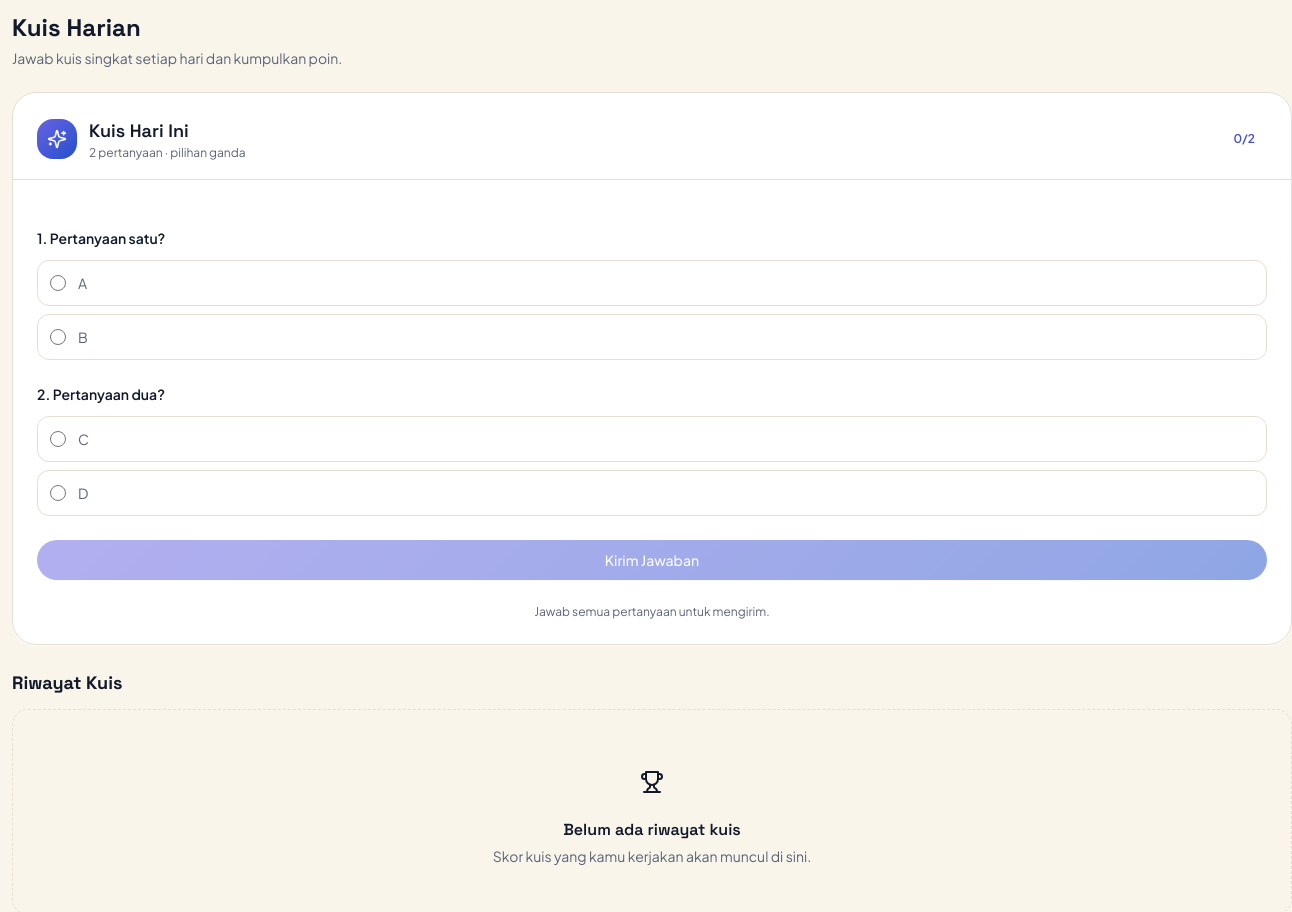
Test: QuizPage › submits answers and shows per-question benar/salah feedback
Expected: the button with test id "kuis.submit_button" is shown, 37,540 -> 1267,580
Click the radio button with test id "kuis.option.1.2": {"x": 58, "y": 337} 50,329 -> 66,345
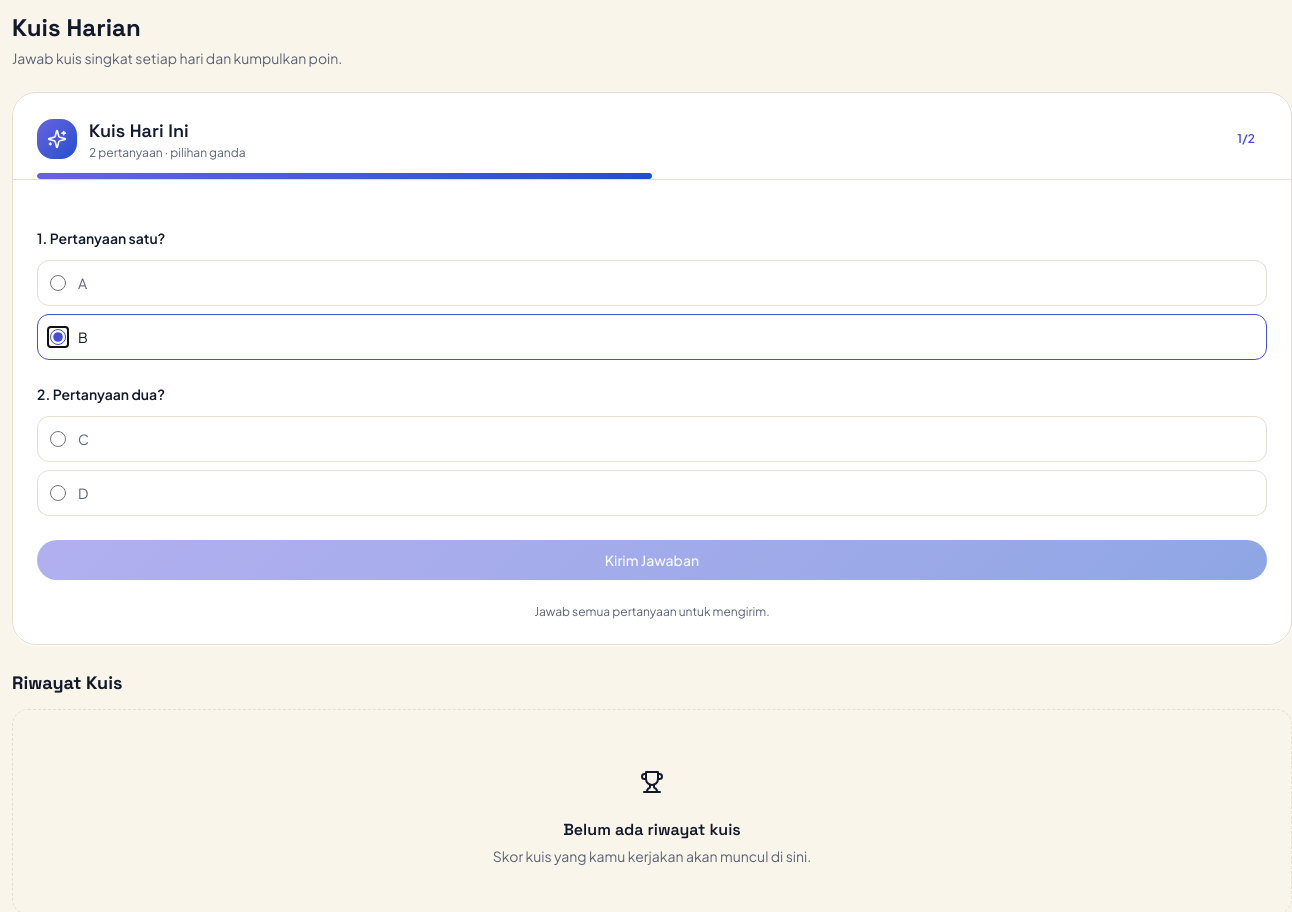
Click the radio button with test id "kuis.option.2.2": {"x": 58, "y": 493} 50,485 -> 66,501
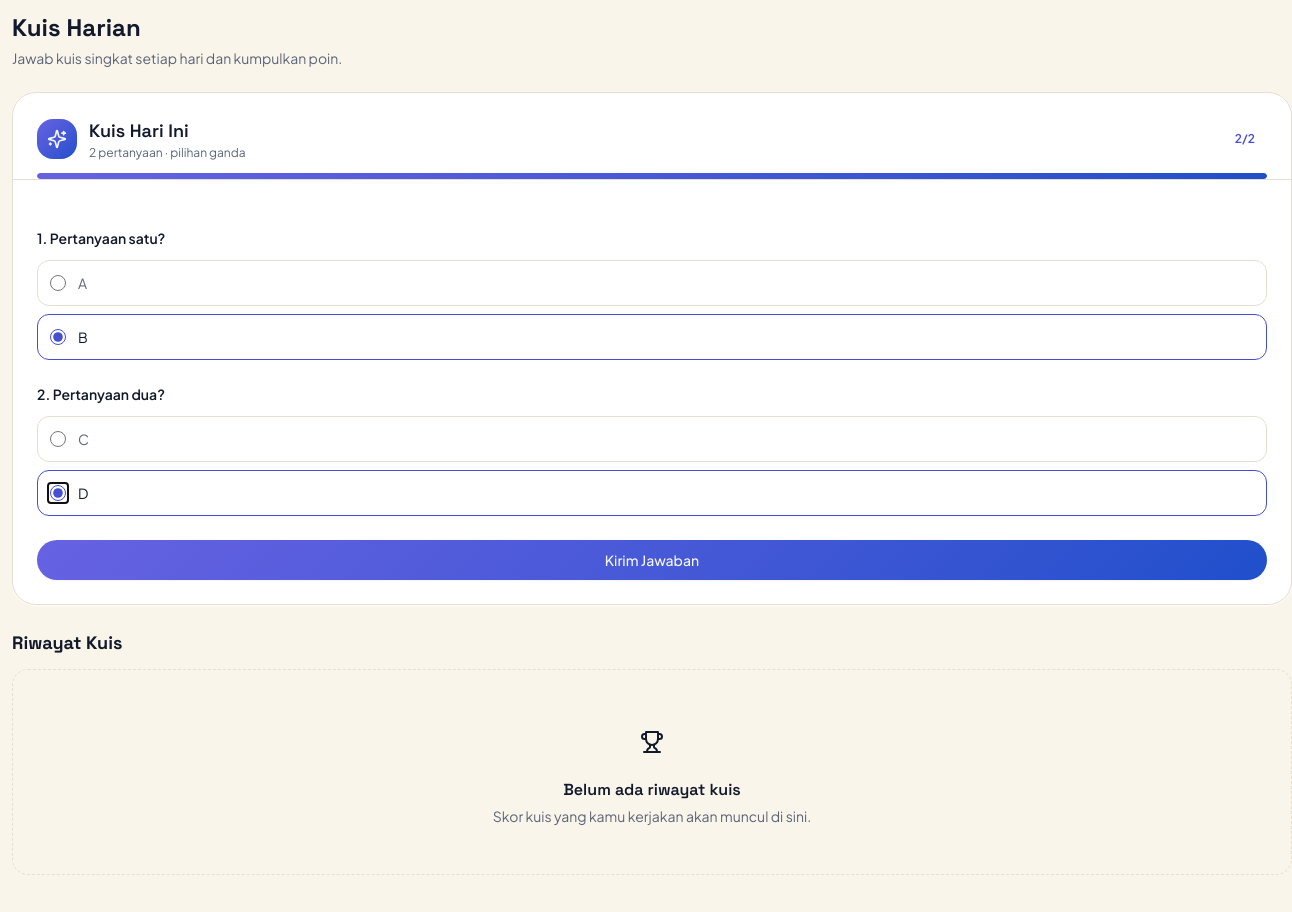
Click the button with test id "kuis.submit_button": {"x": 652, "y": 560} 37,540 -> 1267,580
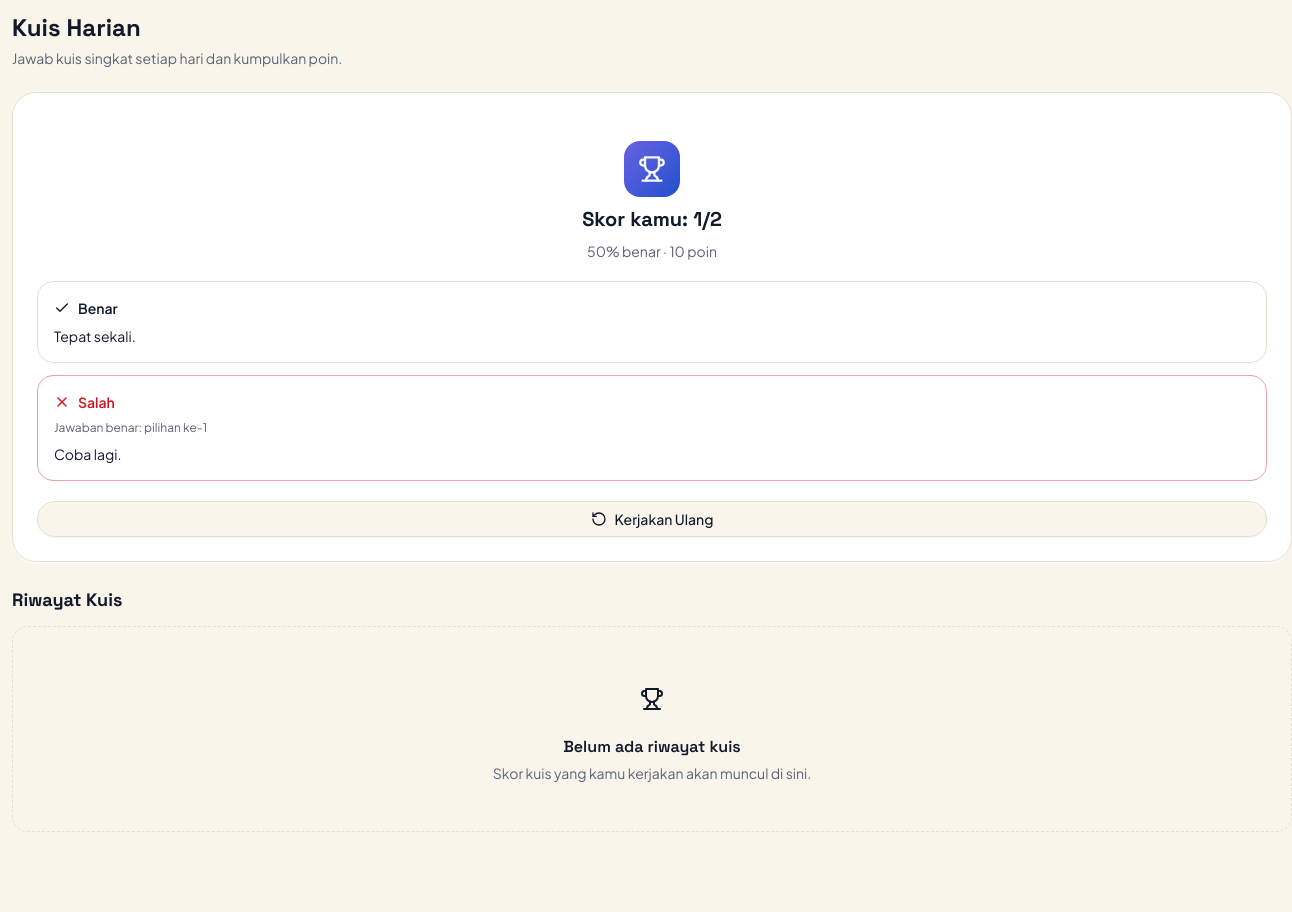
Expected: the heading "Skor kamu: 1/2" is shown, 582,205 -> 722,233
Expected: the text "Benar" is shown, 78,298 -> 118,318
Expected: the text "Salah" is shown, 78,392 -> 115,412
